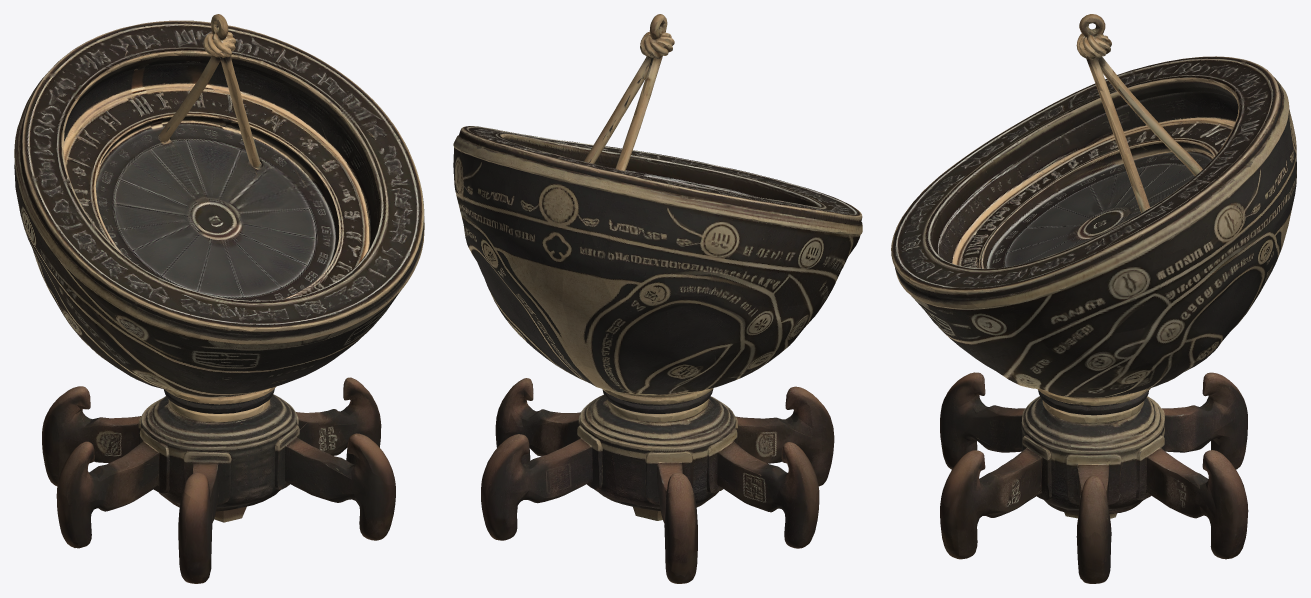
The model's file is sundial.glb.
3 renders of one model, left to right at view 1: azimuth 30°, elevation 25°; view 2: azimuth 150°, elevation 25°; view 3: azimuth 270°, elevation 25°, orthographic.
Bounding box in the file's own units: 1.44 × 1.9 × 1.4.
1 material, 1 textured.
